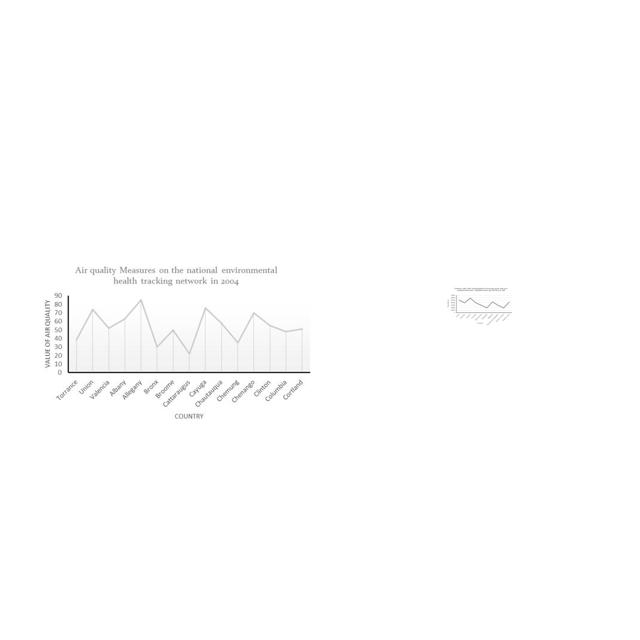Graph: (39, 262, 315, 426), (447, 287, 513, 326)
